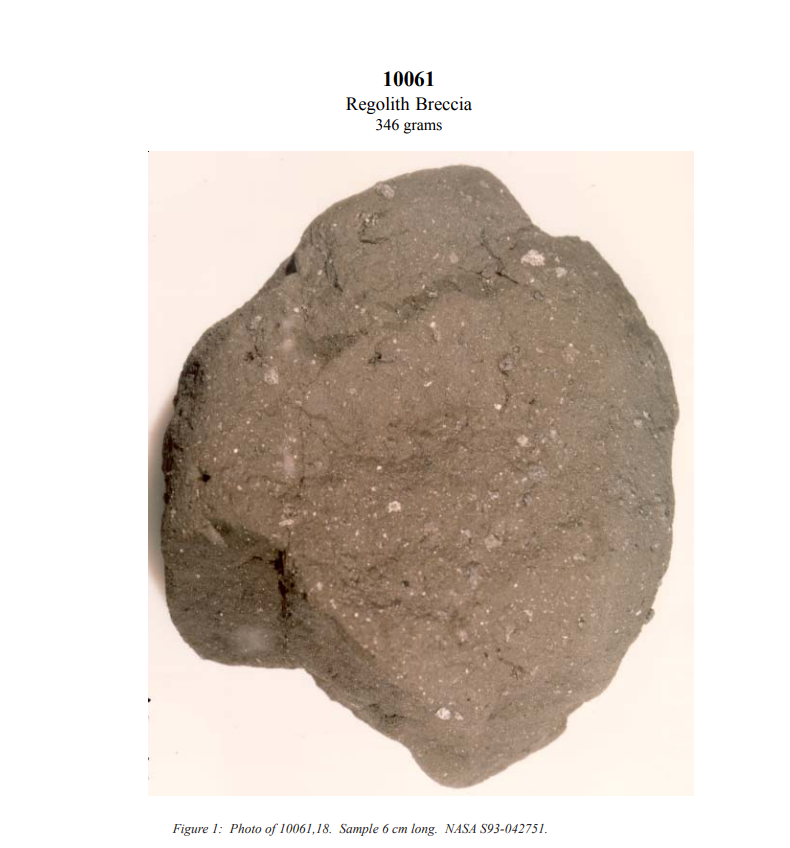Breccia: (146, 148, 687, 788)
